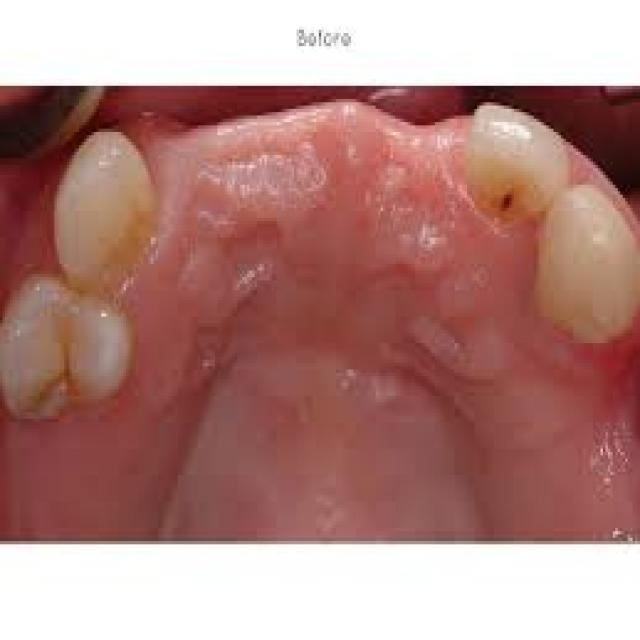Missing: (37, 88, 570, 273)
